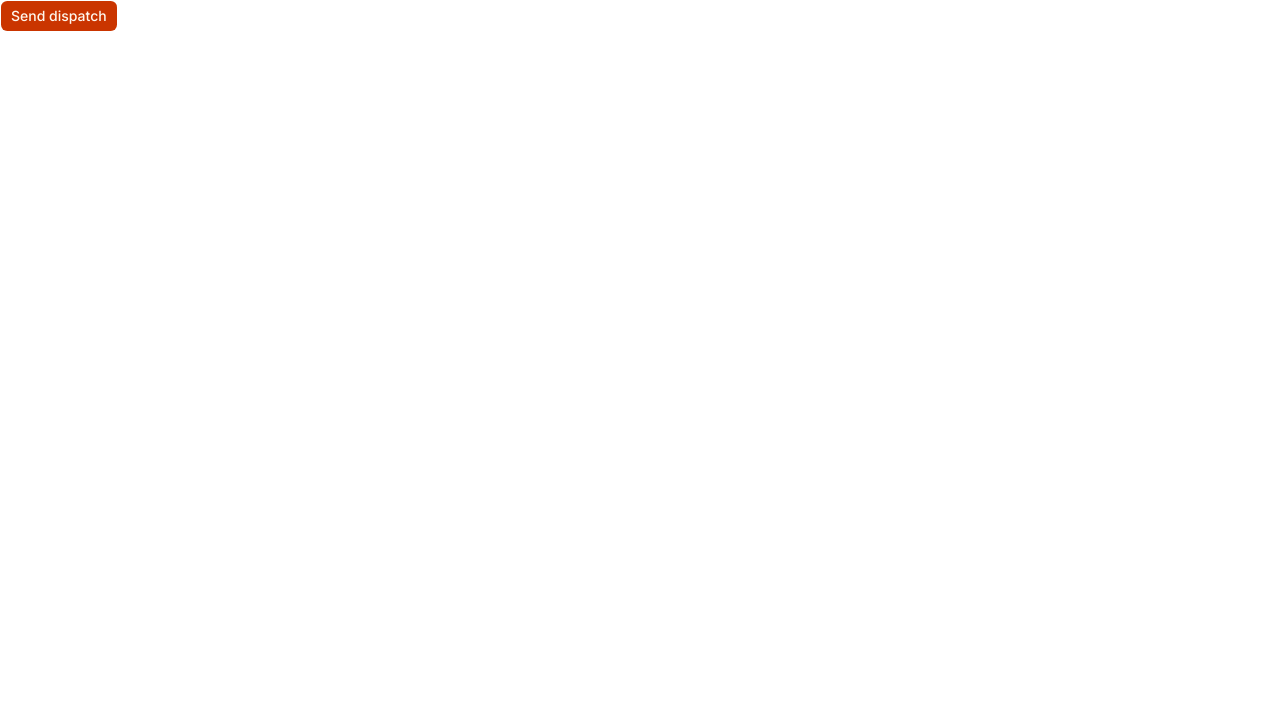
Scenario: dispatch post control › requires a delivery name before sending and refreshes after success
Later steps or results of the test are not shown.
Click the button "Send dispatch" at {"x": 59, "y": 16}, box [0, 0, 118, 32]
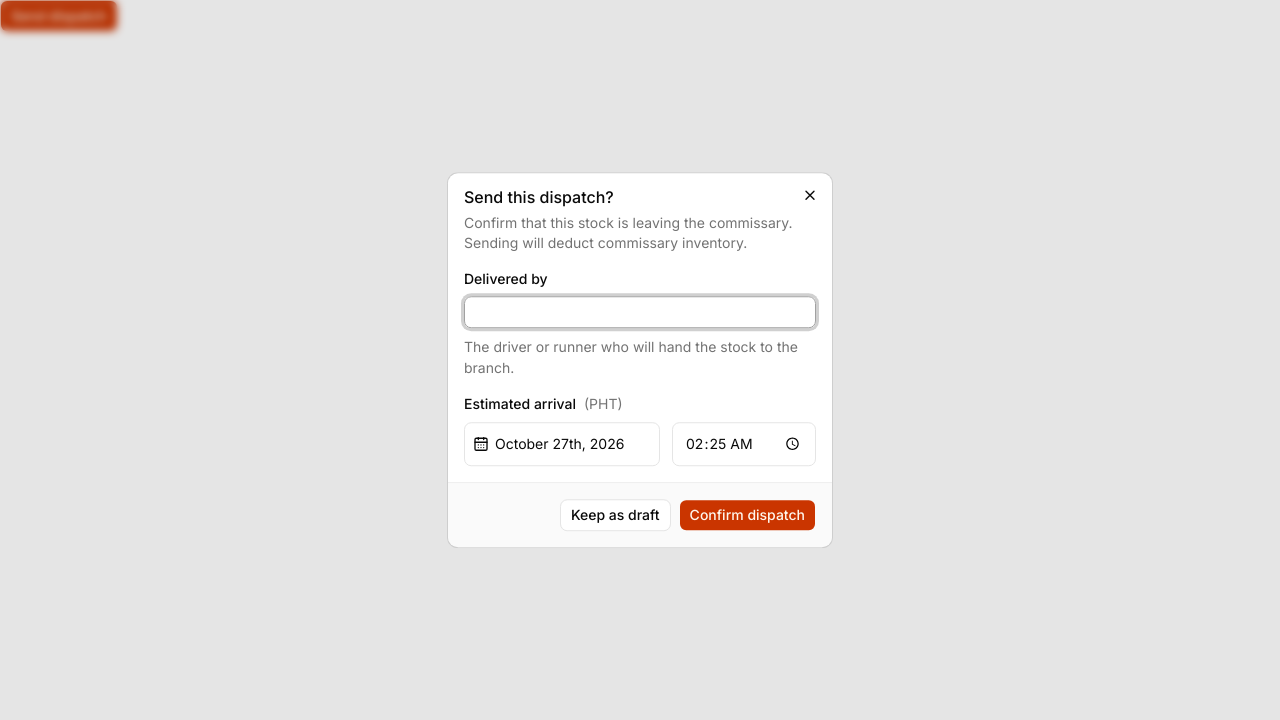
Expected: the text "Sending will deduct commissary inventory" is shown, [464, 214, 793, 251]
Click the button "Confirm dispatch" at {"x": 747, "y": 515}, box [679, 499, 816, 531]
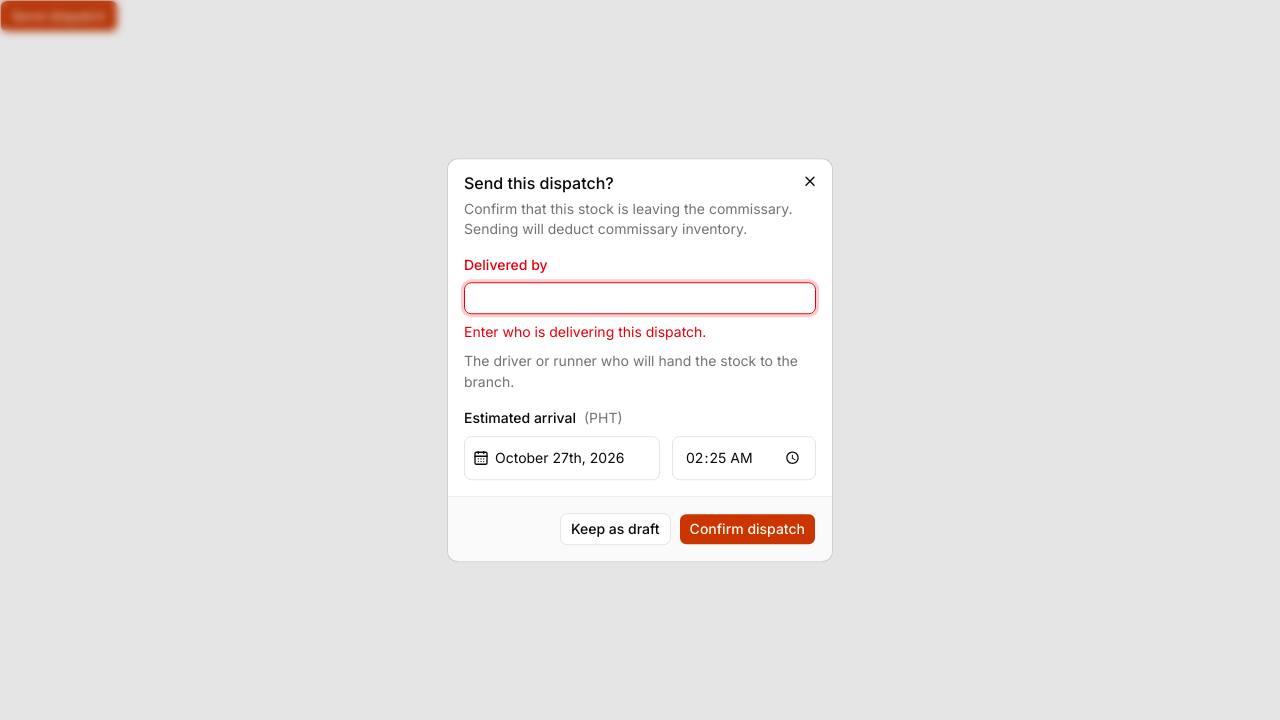
Expected: the field labelled "Delivered by" is marked as invalid
Type " Juan Dela Cruz " into the field labelled "Delivered by" at {"x": 640, "y": 298}, box [464, 282, 816, 314]
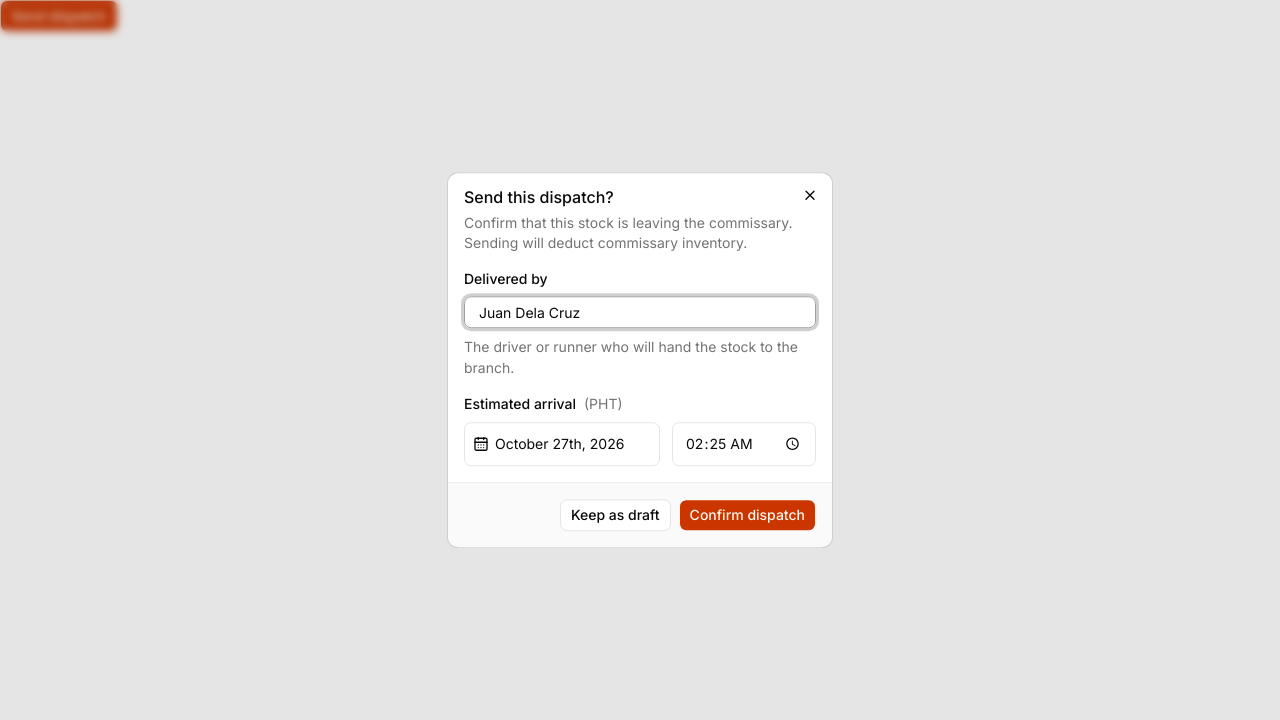
Expected: the message "Enter who is delivering this dispatch." is gone
